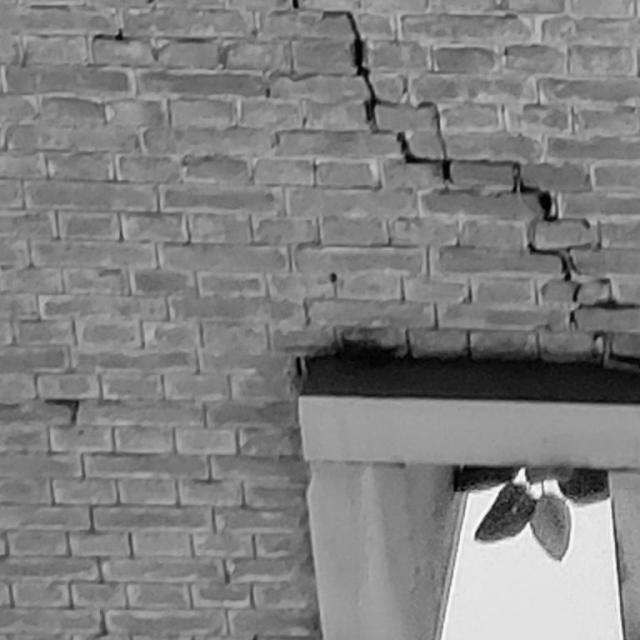crack: (321, 10, 640, 364)
